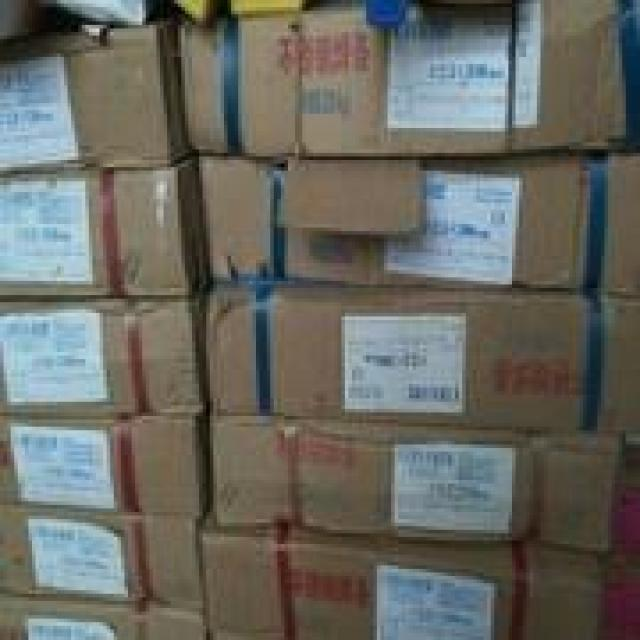box: (182, 5, 640, 167), (197, 282, 640, 432), (192, 149, 640, 297), (213, 407, 615, 553), (207, 529, 611, 640), (0, 157, 214, 303), (0, 17, 185, 171), (0, 300, 210, 424), (0, 418, 216, 529), (0, 502, 215, 613)
